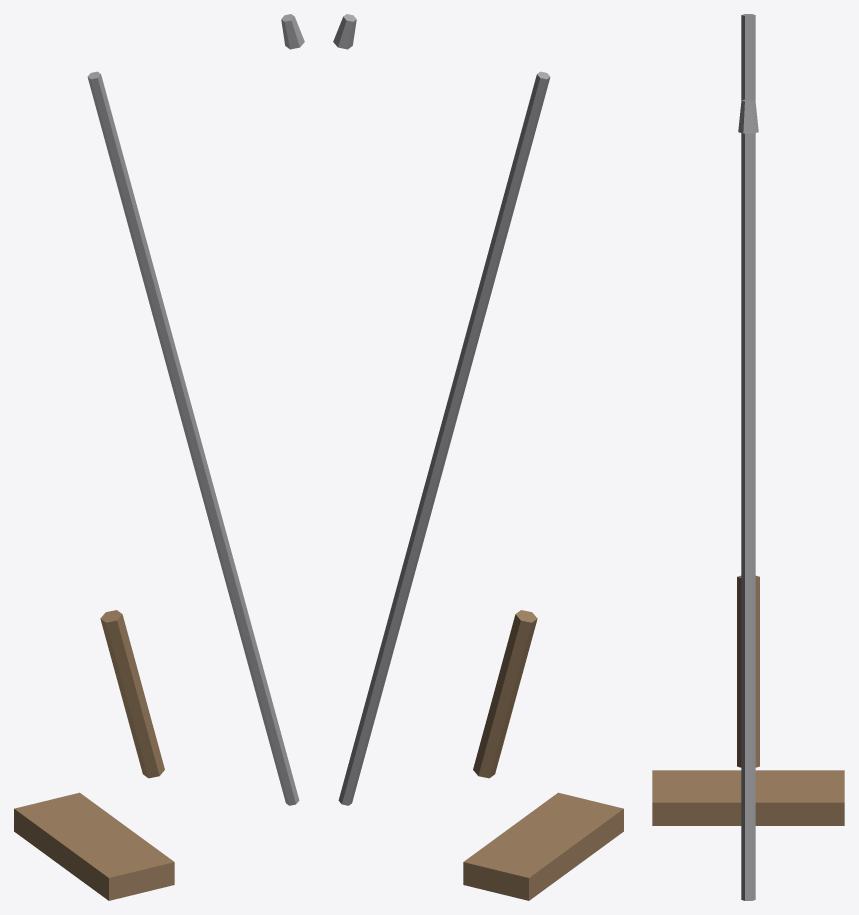
File: prop-blowpipe-lean.fbx
The picture shows the model from 3 angles, left to right: view 1: azimuth 30°, elevation 25°; view 2: azimuth 150°, elevation 25°; view 3: azimuth 270°, elevation 25°; orthographic projection.
Parts seen in each view (by area): view 1: prop-blowpipe-lean; view 2: prop-blowpipe-lean; view 3: prop-blowpipe-lean.
Boxes of the visible parts, box(x1,y1,x2,y2) form: prop-blowpipe-lean: box(14, 14, 304, 900); prop-blowpipe-lean: box(333, 14, 623, 900); prop-blowpipe-lean: box(652, 14, 844, 900).
Size of the model in its own units: 43.99 by 139 by 30.
